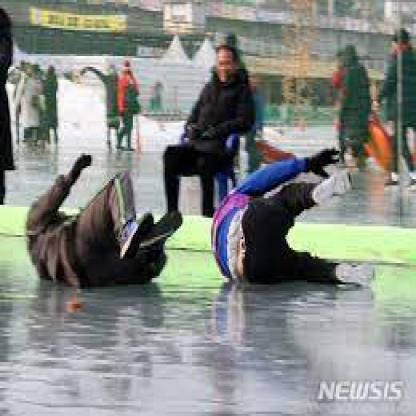Fall_Down: (212, 146, 378, 288)
